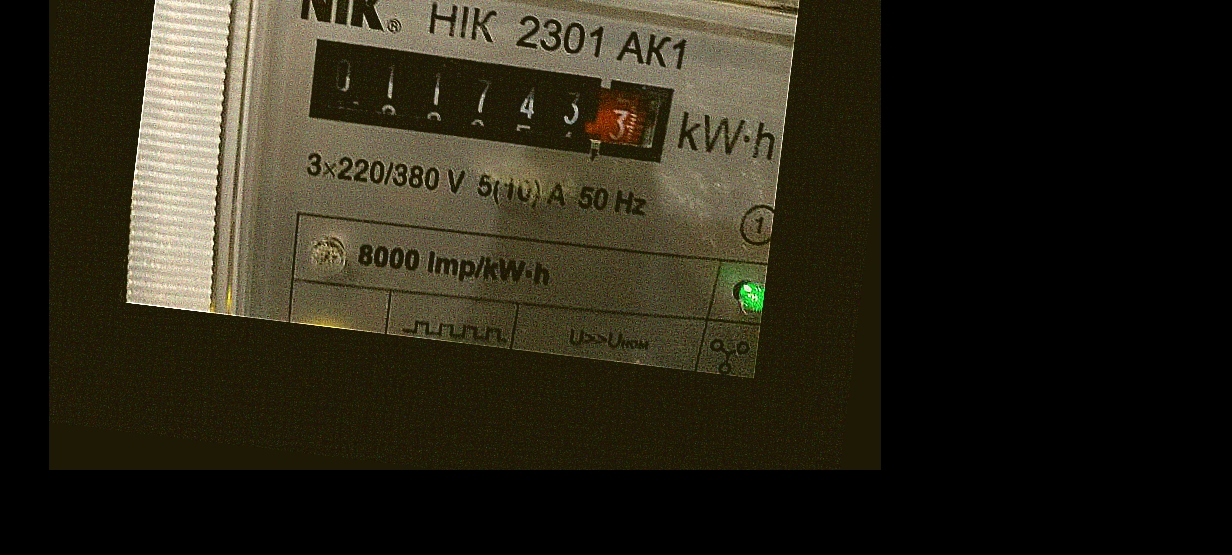0: (330, 54, 357, 95), (380, 59, 403, 102)
1: (426, 65, 447, 108)
3: (560, 84, 585, 129), (606, 103, 631, 143)
4: (515, 79, 540, 121)
7: (469, 70, 497, 117)
screen: (287, 22, 685, 175)
